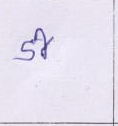i_matra: (35, 28, 52, 59)
